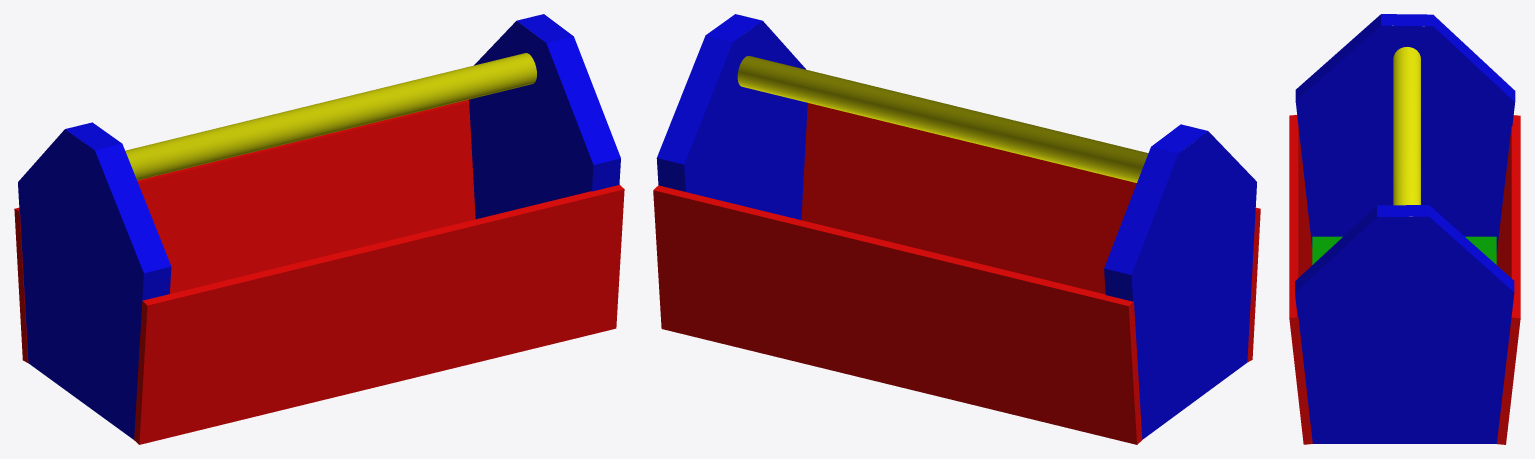
File: toolBox.dae
The picture shows the model from 3 angles, left to right: view 1: azimuth 30°, elevation 25°; view 2: azimuth 150°, elevation 25°; view 3: azimuth 270°, elevation 25°; orthographic projection. The views are drawn at different scales.
Visible parts, largest first — view 1: mesh1_001; view 2: mesh1_001; view 3: mesh1_001.
Part boxes in pixels (x1,y1,x2,y2): mesh1_001: [14, 14, 624, 444]; mesh1_001: [653, 14, 1260, 444]; mesh1_001: [1289, 14, 1520, 444].
Size of the model in its own units: 0.3304 by 0.1593 by 0.1736.
